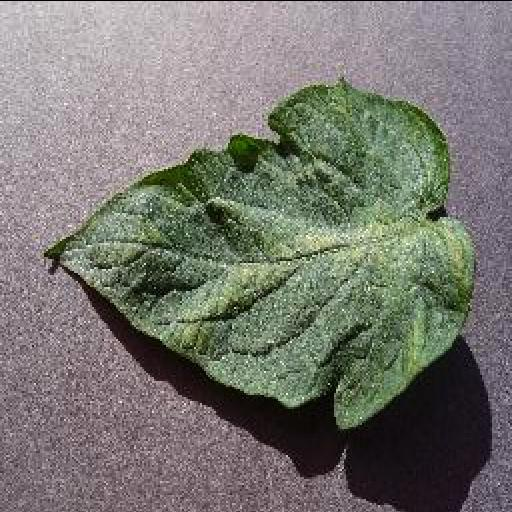disease_tomato: (40, 84, 474, 424)
